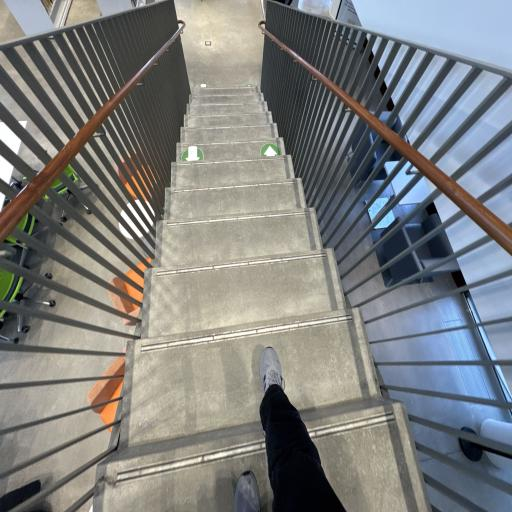Stairs: (94, 87, 430, 512)
